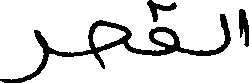ا: (237, 6, 248, 47)
ر: (0, 28, 50, 81)
ص: (85, 17, 132, 68)
ق: (147, 0, 180, 57)
ل: (216, 11, 230, 53)
